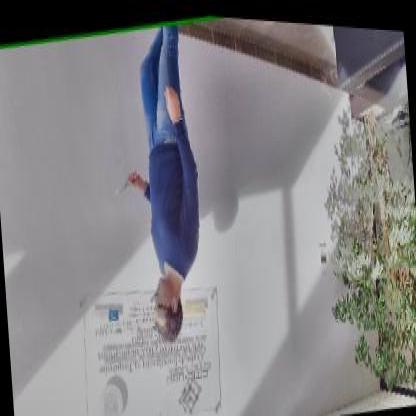knife: (110, 165, 140, 196)
